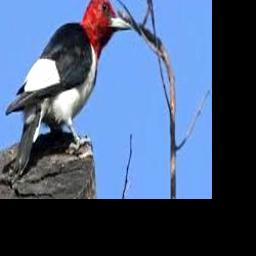Woodpecker: (6, 0, 132, 175)
